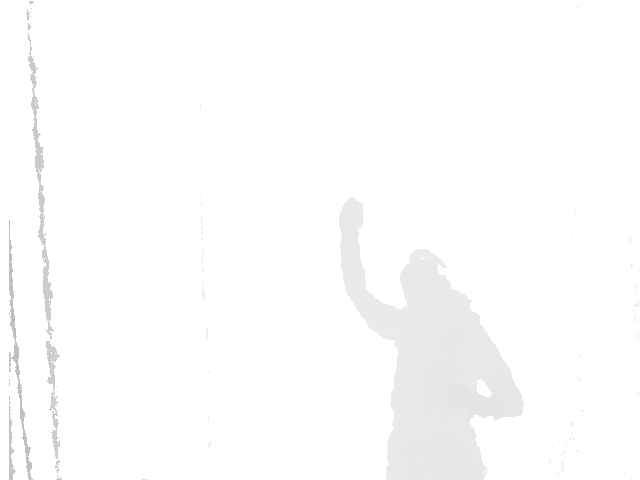hand: (338, 197, 365, 237)
head: (400, 247, 458, 311)
person: (336, 195, 524, 480)
